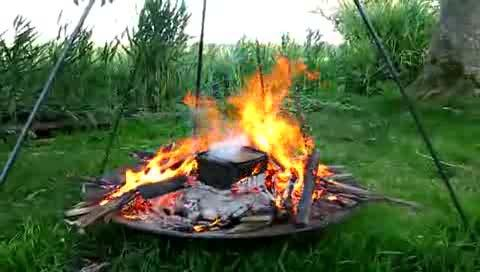fire: (160, 89, 309, 194)
